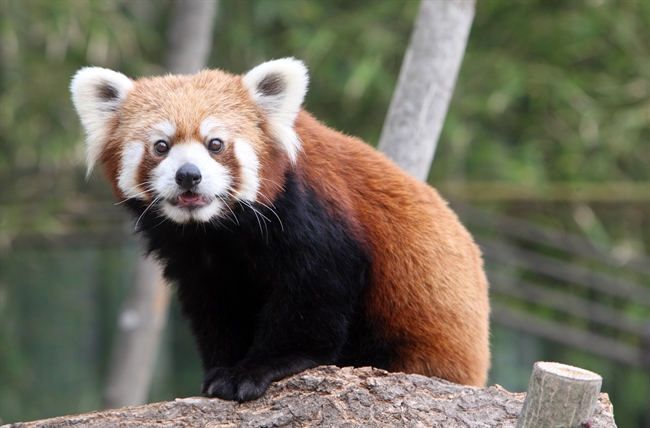redPanda: (64, 61, 496, 386)
